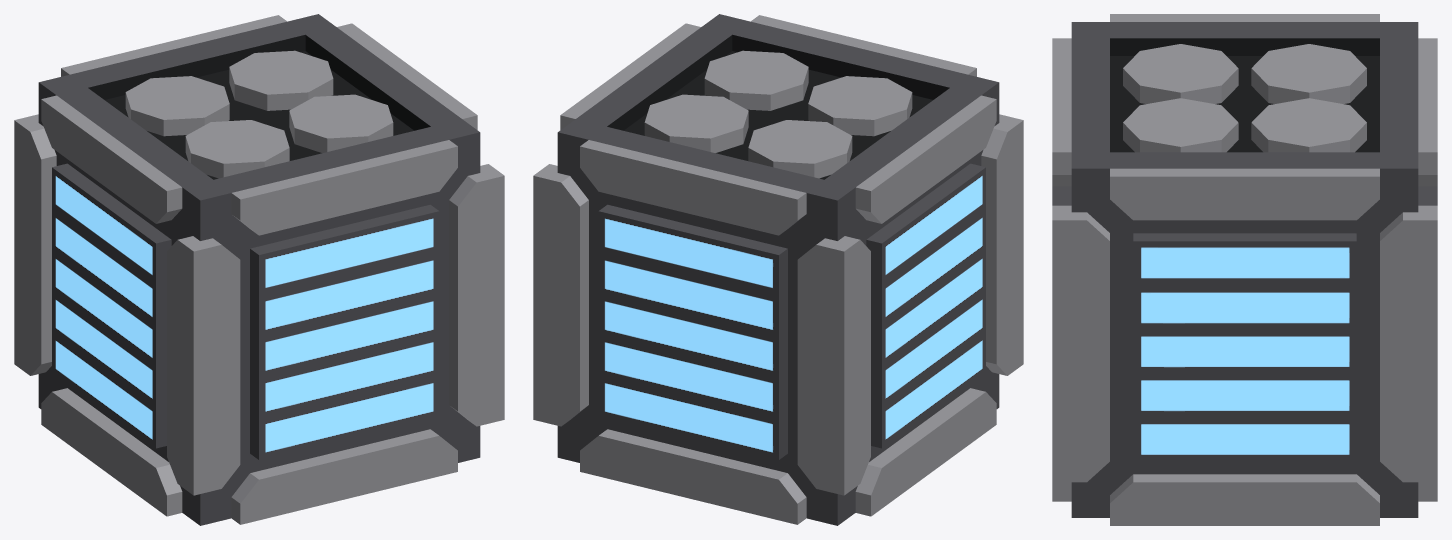
File: model_battery.gltf
3 renders of one model, left to right at view 1: azimuth 30°, elevation 25°; view 2: azimuth 150°, elevation 25°; view 3: azimuth 270°, elevation 25°, orthographic. The views are drawn at different scales.
Parts seen in each view (by area): view 1: model_battery; view 2: model_battery; view 3: model_battery.
Part boxes in pixels (x1=…): model_battery: x1=14, y1=14, x2=504, y2=525; model_battery: x1=533, y1=14, x2=1023, y2=525; model_battery: x1=1052, y1=14, x2=1437, y2=525.
Bounding box in the file's own units: 1 × 1 × 1.
Materials: 1 (1 with a texture image).
